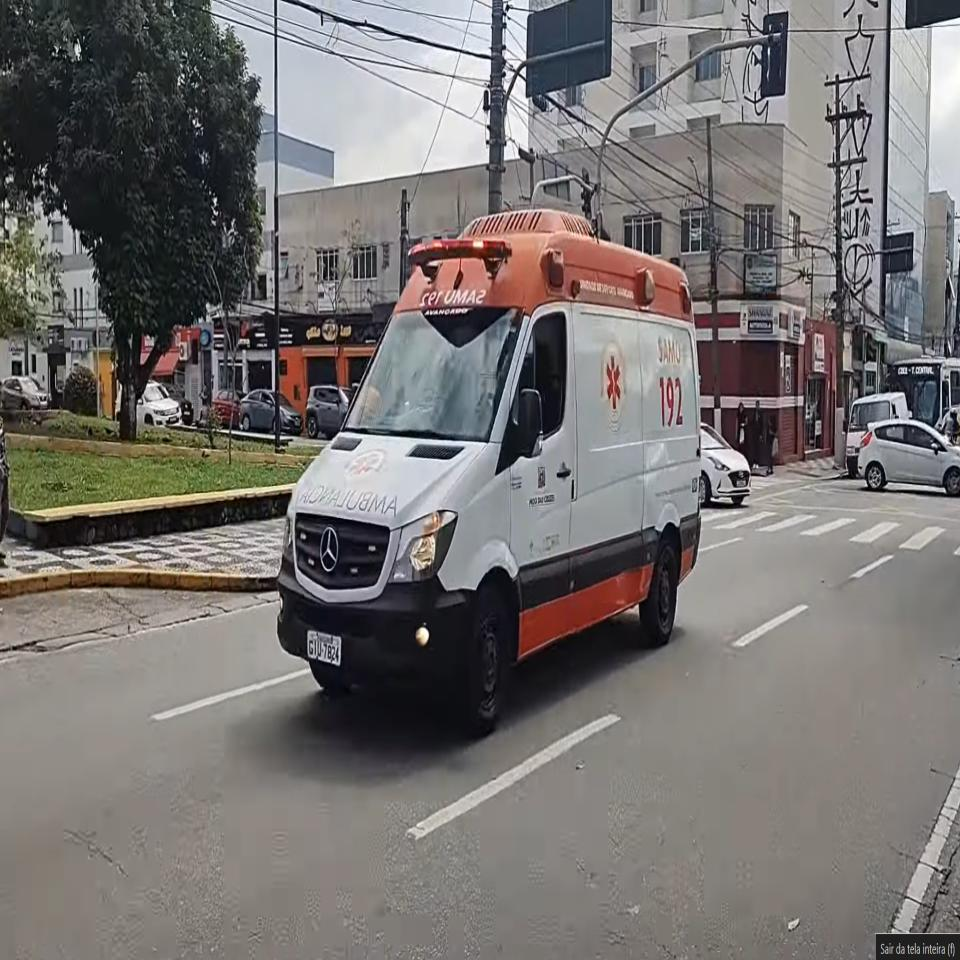bombeiro: (276, 208, 702, 736)
